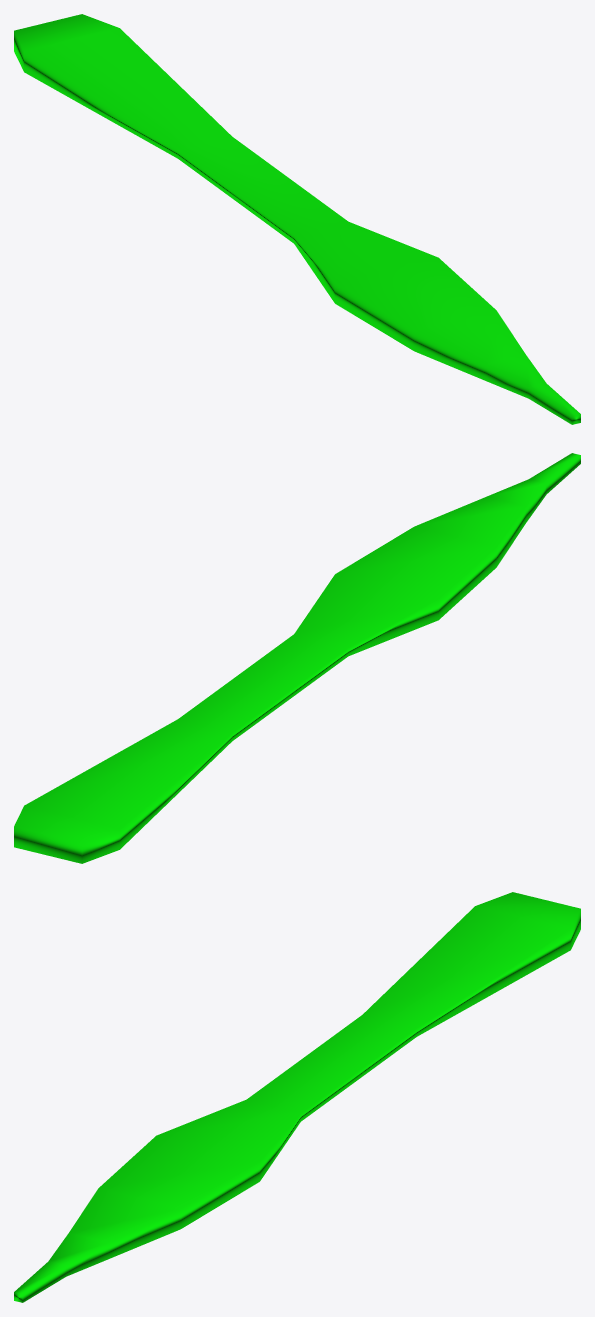
The model's file is SurgicalInstrumentC.fbx.
3 renders of one model, top to bottom at view 1: azimuth 30°, elevation 25°; view 2: azimuth 150°, elevation 25°; view 3: azimuth 330°, elevation 25°, orthographic.
Parts seen in each view (by area): view 1: SurgicalInstrumentC; view 2: SurgicalInstrumentC; view 3: SurgicalInstrumentC.
Part boxes in pixels (x1,y1,x2,y2): SurgicalInstrumentC: [14, 14, 580, 424]; SurgicalInstrumentC: [14, 453, 580, 863]; SurgicalInstrumentC: [14, 892, 580, 1302].
Size of the model in its own units: 3.76 by 0.7212 by 33.22.
